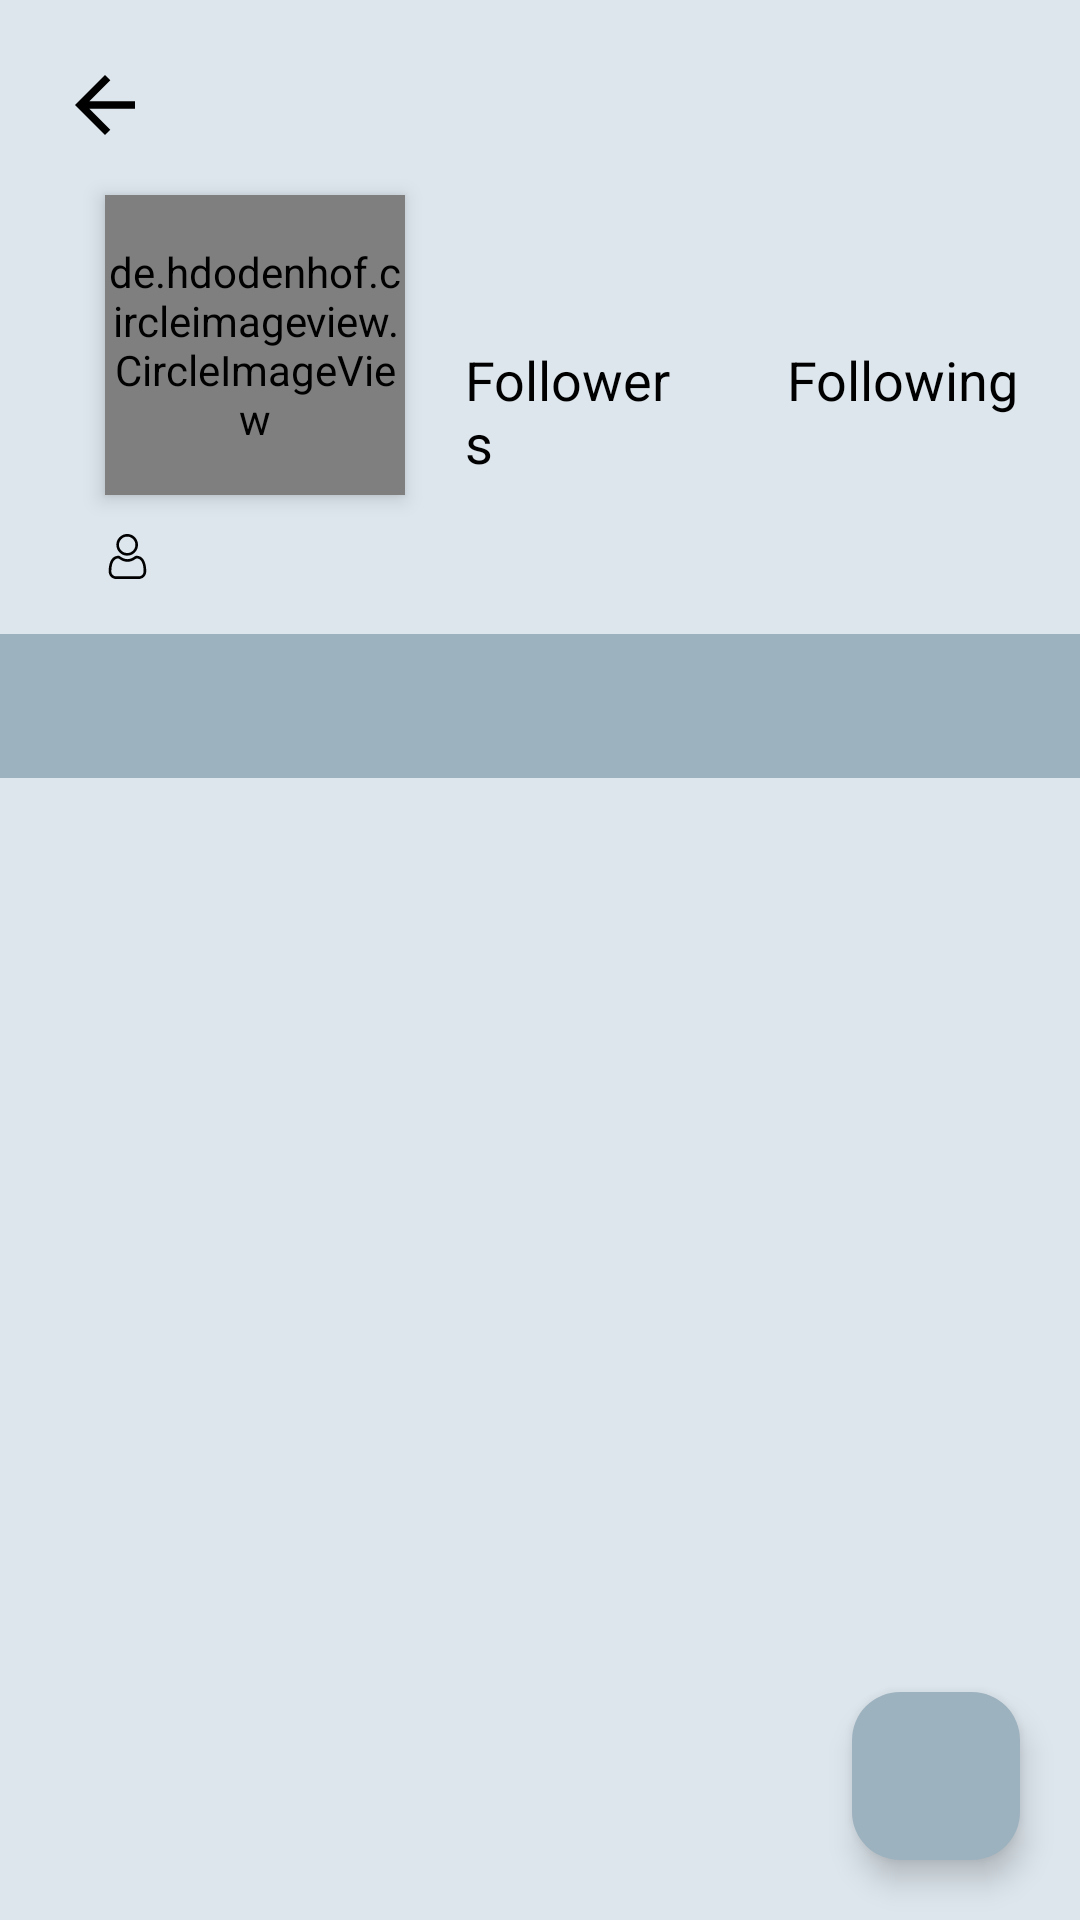

Icons on this 1080px x 1920px Android screen, each with its box as (x1, y1, x2, y2):
Back: (75, 75, 135, 135)
user: (108, 534, 147, 579)
